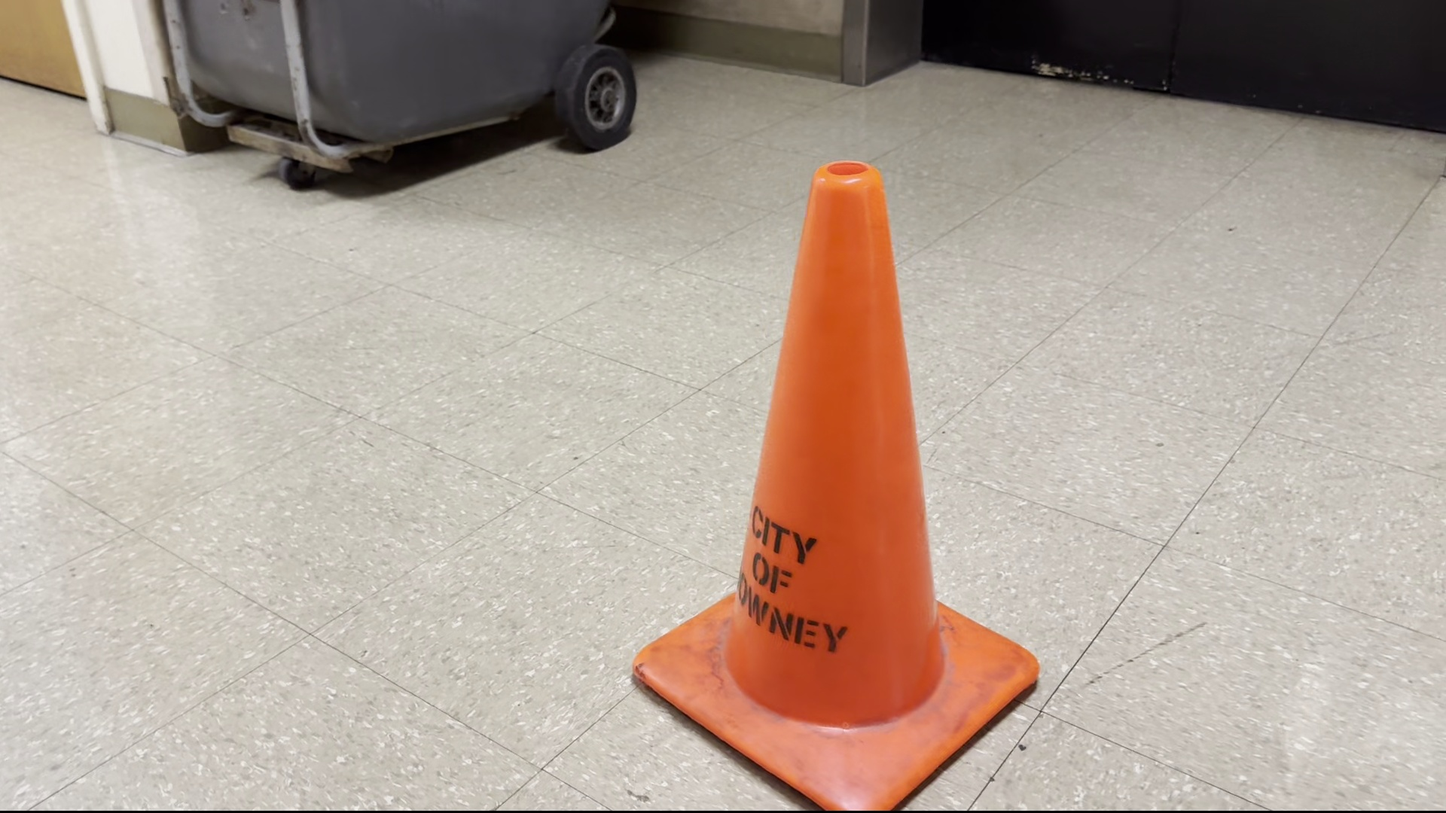traffic_cone: (631, 159, 1040, 811)
